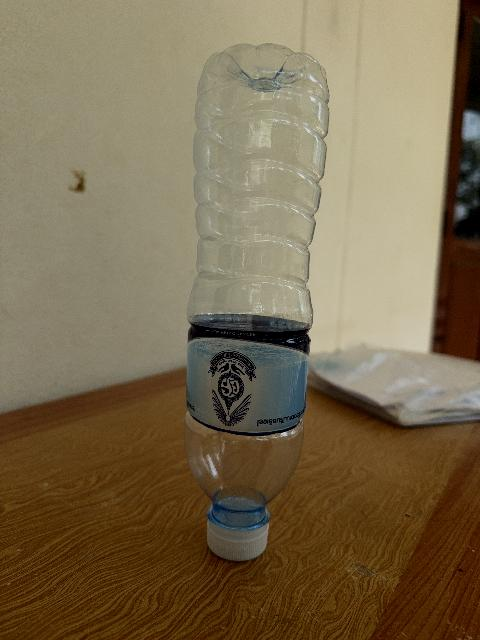bottle: (184, 45, 327, 560)
